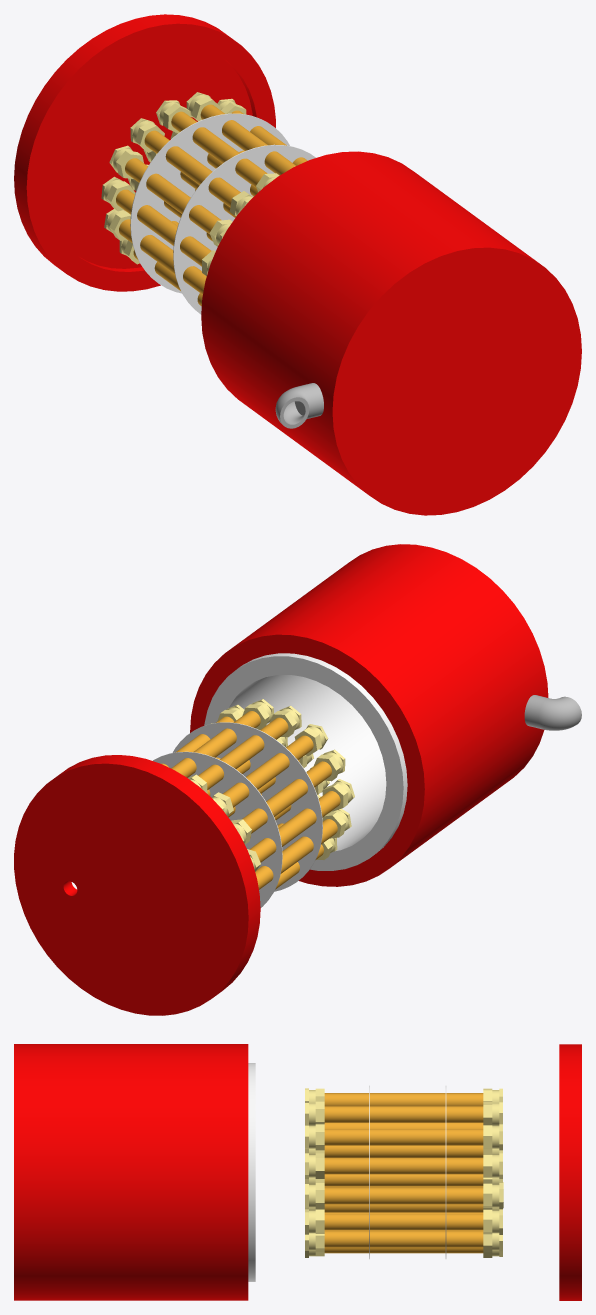
Rendered from tes21.glb.
3 views of the same model, one above another, from view 1: azimuth 30°, elevation 25°; view 2: azimuth 150°, elevation 25°; view 3: azimuth 270°, elevation 25° (orthographic). The views are drawn at different scales.
Parts seen in each view (by area): view 1: bucket-1, bucket_cover-1, Aluminum Plate-1, Aluminum Plate-2, Copper tubes-40, Copper tubes-36, Copper tubes-37, Copper tubes-50, Copper tubes-35, Copper tubes-46; view 2: bucket-1, bucket_cover-1, Aluminum Plate-2, Aluminum Plate-1, Copper tubes-40, Copper tubes-36, Copper tubes-37, Copper tubes-50, Copper tubes-35, Copper tubes-46; view 3: bucket-1, bucket_cover-1, Copper tubes-34, Copper tubes-54, Copper tubes-35, Copper tubes-52, Copper tubes-49, Copper tubes-48, Copper tubes-37, Copper tubes-39, Copper tubes-47, Copper tubes-53 (+15 smaller).
Boxes of the visible parts, left/top/right/bottom form: bucket-1: left=201, top=151, right=581, bottom=515; bucket_cover-1: left=14, top=14, right=275, bottom=291; Aluminum Plate-1: left=130, top=113, right=289, bottom=293; Aluminum Plate-2: left=173, top=144, right=315, bottom=314; Copper tubes-40: left=144, top=130, right=240, bottom=207; Copper tubes-36: left=125, top=158, right=221, bottom=234; Copper tubes-37: left=171, top=111, right=267, bottom=187; Copper tubes-50: left=116, top=189, right=211, bottom=266; Copper tubes-35: left=200, top=104, right=295, bottom=175; Copper tubes-46: left=119, top=219, right=206, bottom=294; bucket-1: left=190, top=544, right=581, bottom=886; bucket_cover-1: left=14, top=755, right=260, bottom=1015; Aluminum Plate-2: left=172, top=722, right=322, bottom=891; Aluminum Plate-1: left=153, top=751, right=282, bottom=907; Copper tubes-40: left=223, top=735, right=313, bottom=807; Copper tubes-36: left=242, top=761, right=331, bottom=833; Copper tubes-37: left=198, top=717, right=288, bottom=789; Copper tubes-50: left=249, top=791, right=340, bottom=862; Copper tubes-35: left=171, top=711, right=260, bottom=777; Copper tubes-46: left=255, top=819, right=337, bottom=889; bucket-1: left=14, top=1044, right=255, bottom=1300; bucket_cover-1: left=559, top=1044, right=581, bottom=1300; Copper tubes-34: left=324, top=1187, right=483, bottom=1204; Copper tubes-54: left=324, top=1213, right=483, bottom=1230; Copper tubes-35: left=324, top=1106, right=483, bottom=1122; Copper tubes-52: left=324, top=1231, right=483, bottom=1247; Copper tubes-49: left=324, top=1129, right=483, bottom=1145; Copper tubes-48: left=324, top=1158, right=483, bottom=1174; Copper tubes-37: left=324, top=1093, right=483, bottom=1106; Copper tubes-39: left=324, top=1174, right=483, bottom=1186; Copper tubes-47: left=324, top=1145, right=483, bottom=1157; Copper tubes-53: left=324, top=1204, right=483, bottom=1212.
Size of the model in its own units: 0.4 by 0.34 by 0.7518.
